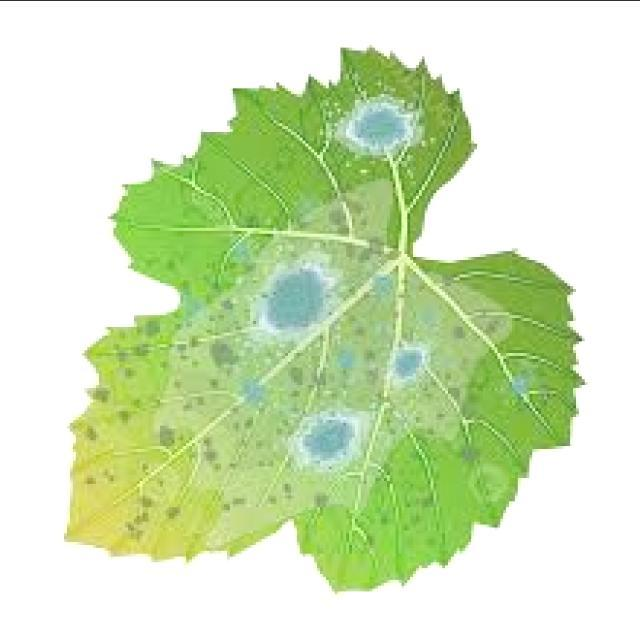leaf: (63, 45, 586, 593)
